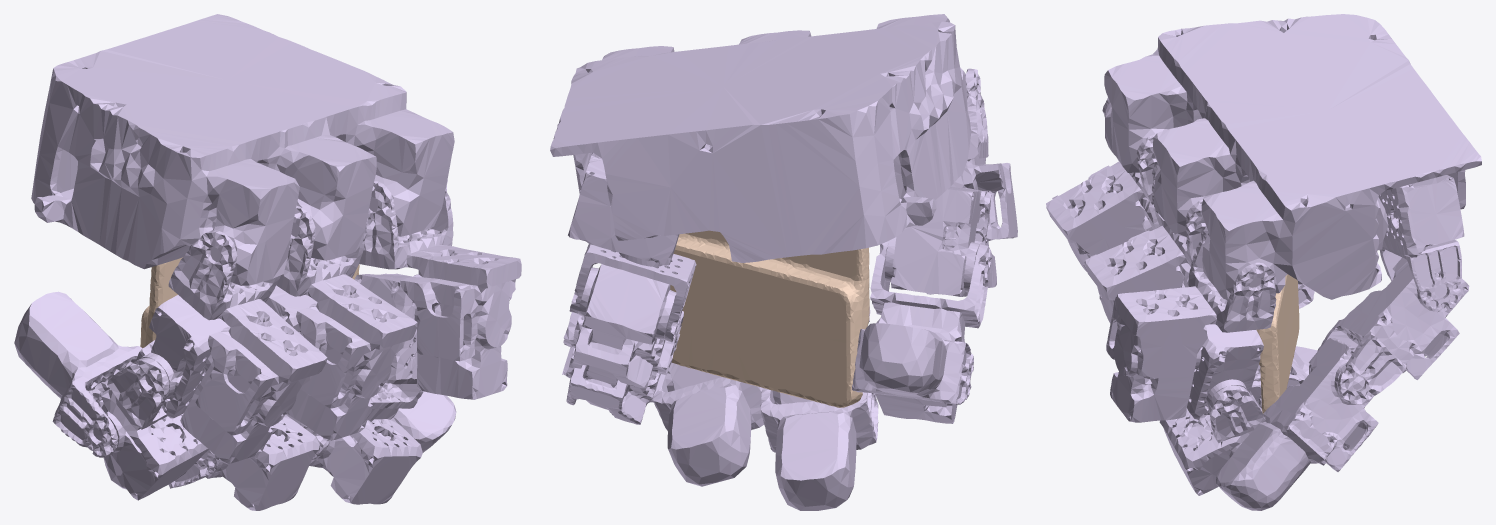
The model's file is 1c3e51762570f1-closed.glb.
3 renders of one model, left to right at view 1: azimuth 30°, elevation 25°; view 2: azimuth 150°, elevation 25°; view 3: azimuth 270°, elevation 25°, orthographic. The views are drawn at different scales.
Visible parts, largest first — view 1: LEAP_hand, world; view 2: LEAP_hand, world; view 3: LEAP_hand, world.
Boxes of the visible parts, left/top/right/bottom form: LEAP_hand: left=14, top=14, right=521, bottom=510; world: left=140, top=257, right=359, bottom=348; LEAP_hand: left=550, top=14, right=1017, bottom=510; world: left=670, top=230, right=869, bottom=407; LEAP_hand: left=1046, top=14, right=1481, bottom=510; world: left=1256, top=274, right=1299, bottom=413.
Size of the model in its own units: 0.1508 by 0.1551 by 0.163.
